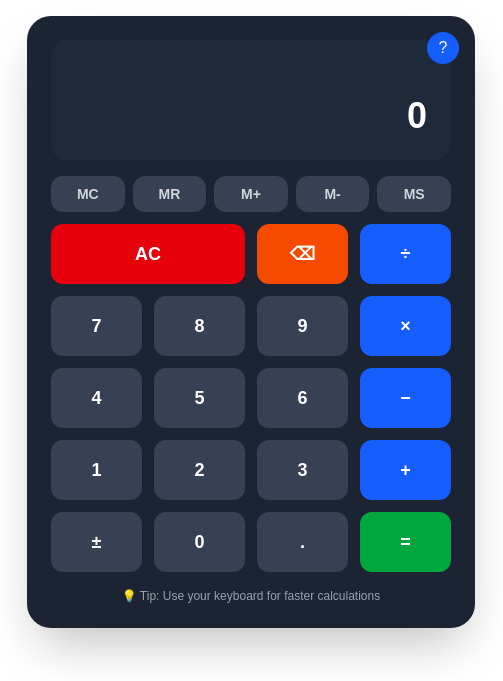
it: Calculator Component › Basic Arithmetic Operations › should perform addition correctly
Step 1. Click the button "5" → (200,398), box [154,368,245,428]
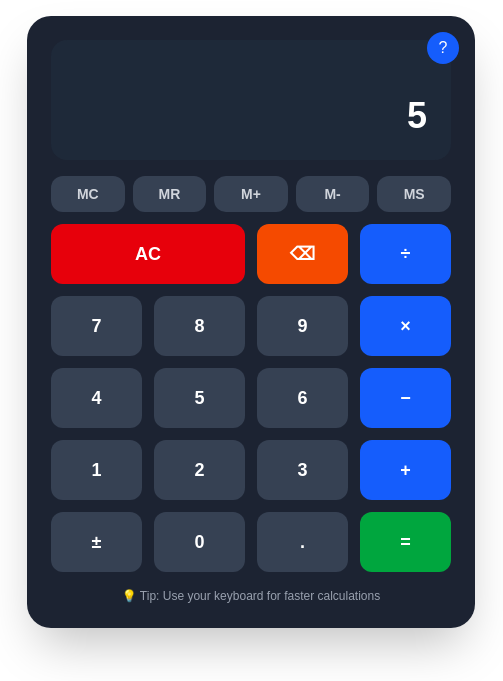
Step 2. Click the button named "Add" → (406,470), box [360,440,451,500]
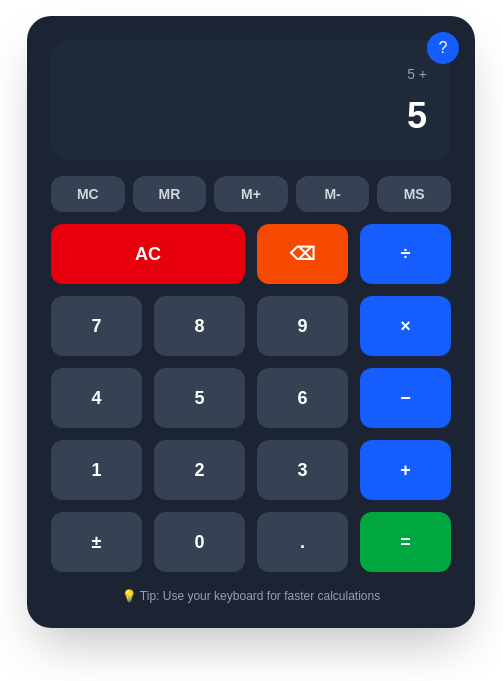
Step 3. Click the button "3" → (302,470), box [257,440,348,500]
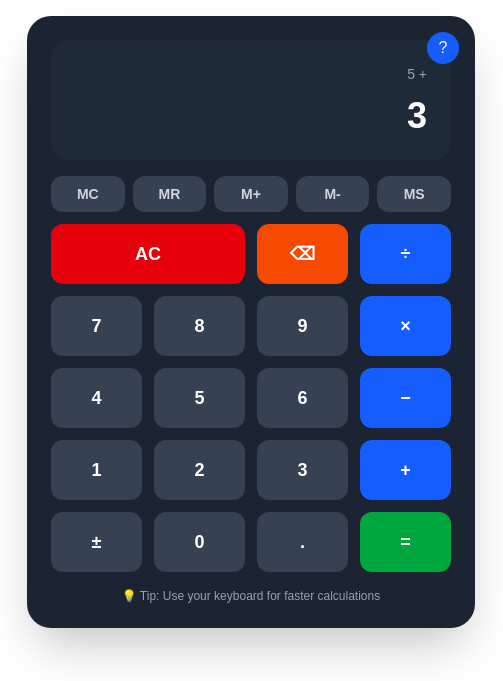
Step 4. Click the button named "Equals" → (406,542), box [360,512,451,572]
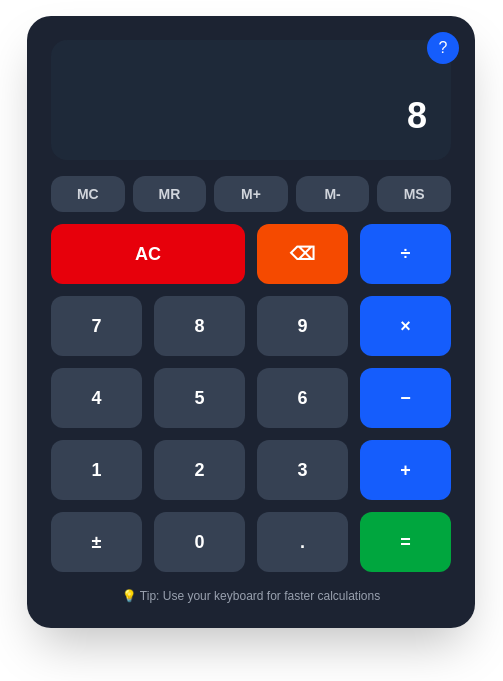
Check: the 1st text "8" is shown, box [407,95,427,136]
